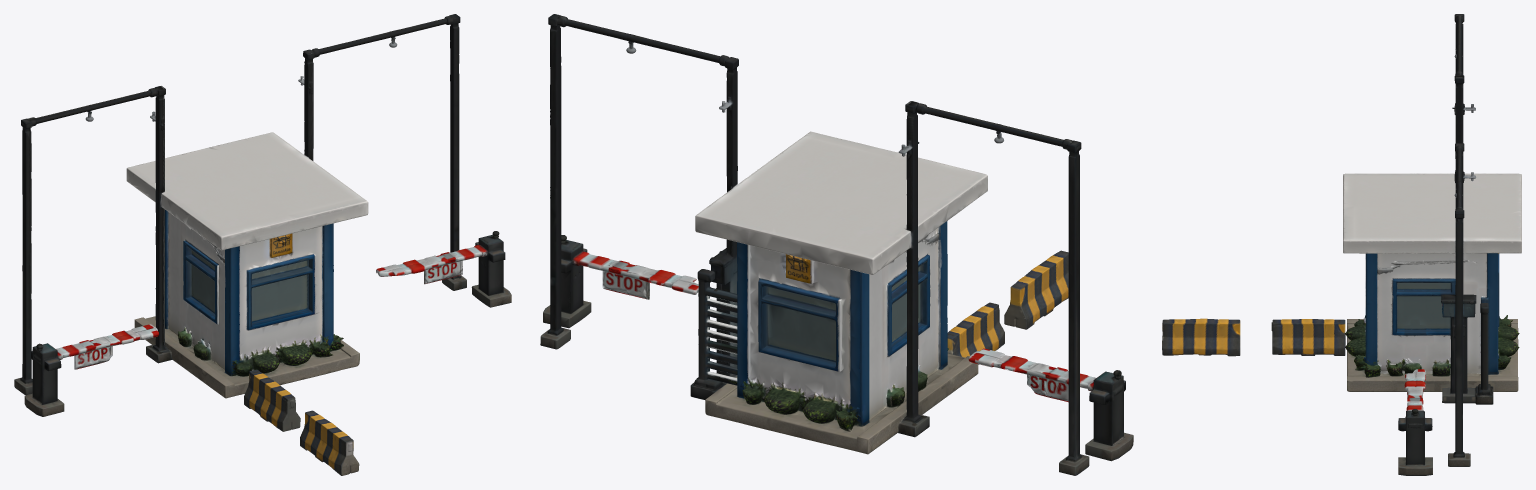
The model's file is toll_booth_3d_model-d6a9714a.glb.
The picture shows the model from 3 angles, left to right: view 1: azimuth 30°, elevation 25°; view 2: azimuth 150°, elevation 25°; view 3: azimuth 270°, elevation 25°; orthographic projection. The views are drawn at different scales.
Visible parts, largest first — view 1: tripo_node_b9a0d196-1991-4ad6-81cf-1f8e049d26a8; view 2: tripo_node_b9a0d196-1991-4ad6-81cf-1f8e049d26a8; view 3: tripo_node_b9a0d196-1991-4ad6-81cf-1f8e049d26a8.
Part boxes in pixels (x1=…): tripo_node_b9a0d196-1991-4ad6-81cf-1f8e049d26a8: x1=14, y1=14, x2=511, y2=475; tripo_node_b9a0d196-1991-4ad6-81cf-1f8e049d26a8: x1=540, y1=14, x2=1133, y2=475; tripo_node_b9a0d196-1991-4ad6-81cf-1f8e049d26a8: x1=1162, y1=14, x2=1521, y2=475.
Size of the model in its own units: 0.9778 by 0.552 by 0.6859.
1 material, 1 textured.
